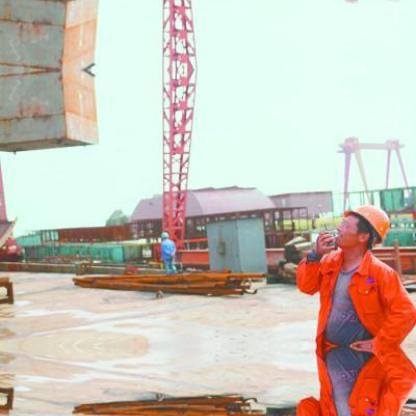Safety Helmet: (328, 199, 398, 269), (156, 229, 171, 243)
